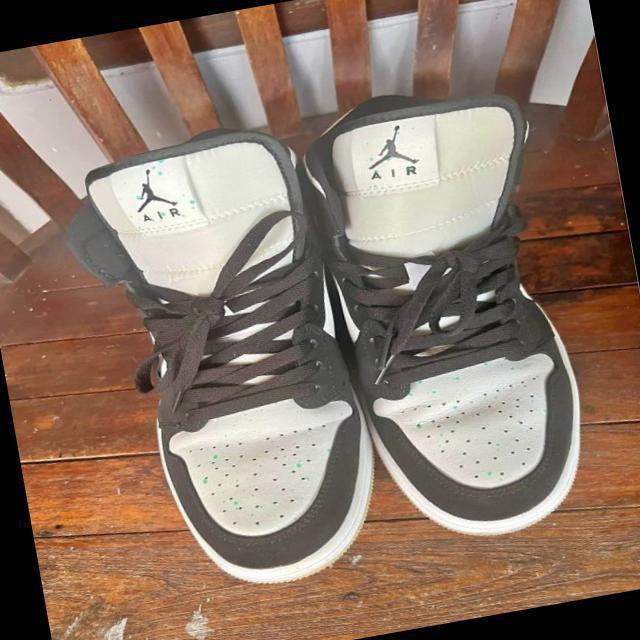nike fake jordan 1: (42, 116, 402, 614), (295, 74, 609, 556)
